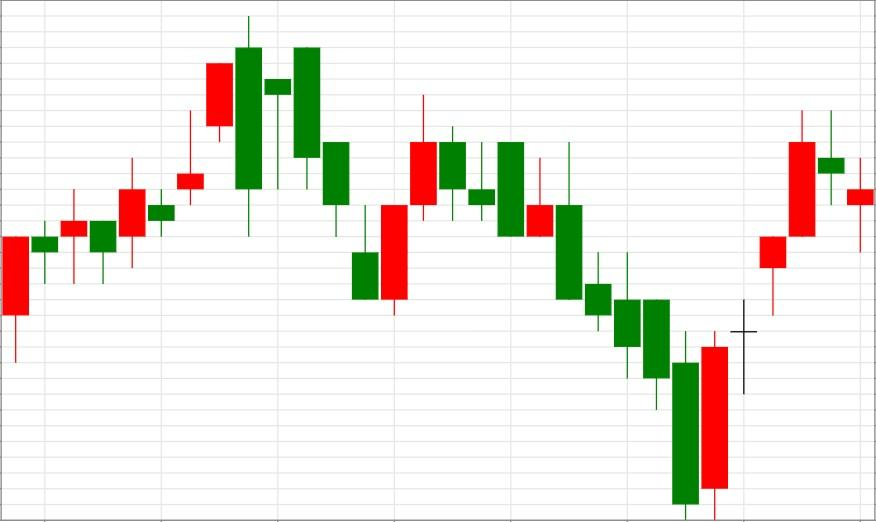bearish_engulfing_fall: (1, 15, 263, 363)
bullish_engulfing_rise: (293, 46, 409, 316)
